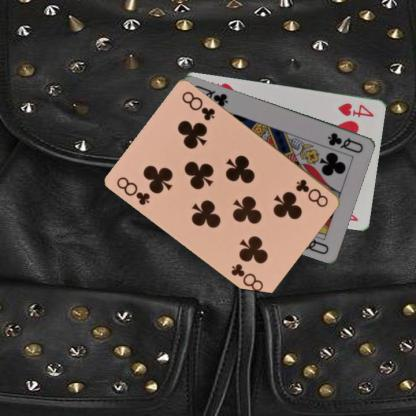4h: (335, 100, 376, 118)
8c: (293, 176, 330, 209), (114, 174, 152, 206)
Qc: (325, 130, 365, 154)
